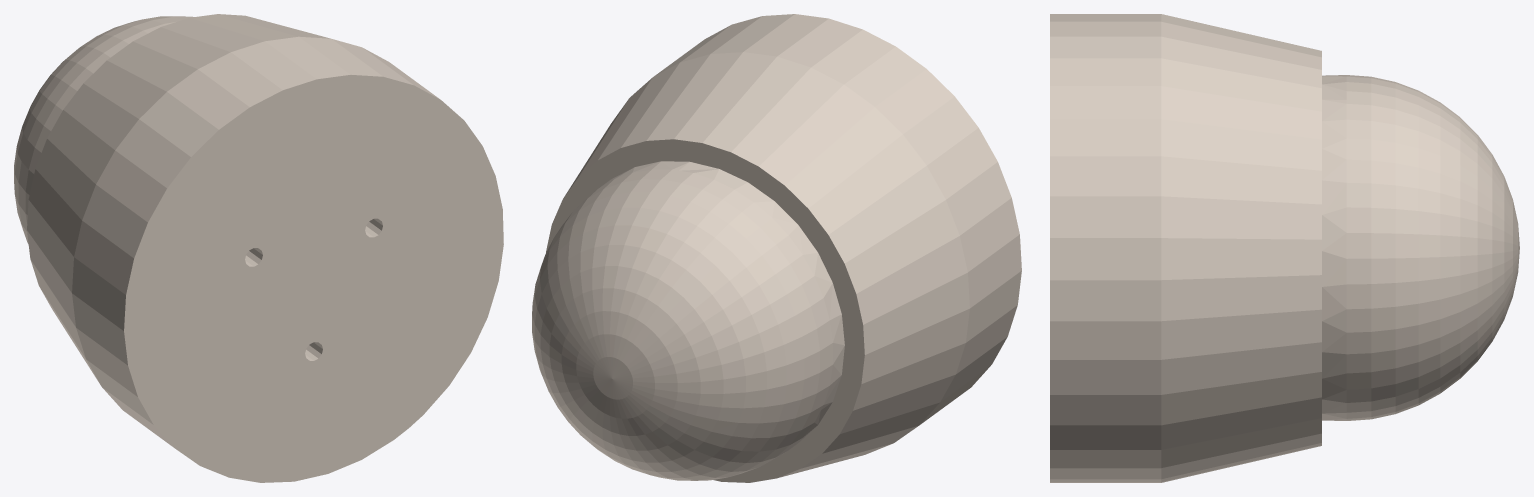
The model's file is rambler_Chasis_vis_36.dae.
The picture shows the model from 3 angles, left to right: view 1: azimuth 30°, elevation 25°; view 2: azimuth 150°, elevation 25°; view 3: azimuth 270°, elevation 25°; orthographic projection. The views are drawn at different scales.
Visible parts, largest first — view 1: Node_0x7fe100285c80; view 2: Node_0x7fe100285c80; view 3: Node_0x7fe100285c80.
Part boxes in pixels (bbox=[...]): Node_0x7fe100285c80: bbox=[14, 14, 503, 482]; Node_0x7fe100285c80: bbox=[532, 14, 1021, 482]; Node_0x7fe100285c80: bbox=[1050, 14, 1519, 482].
Size of the model in its own units: 0.1898 by 0.1897 by 0.19.
